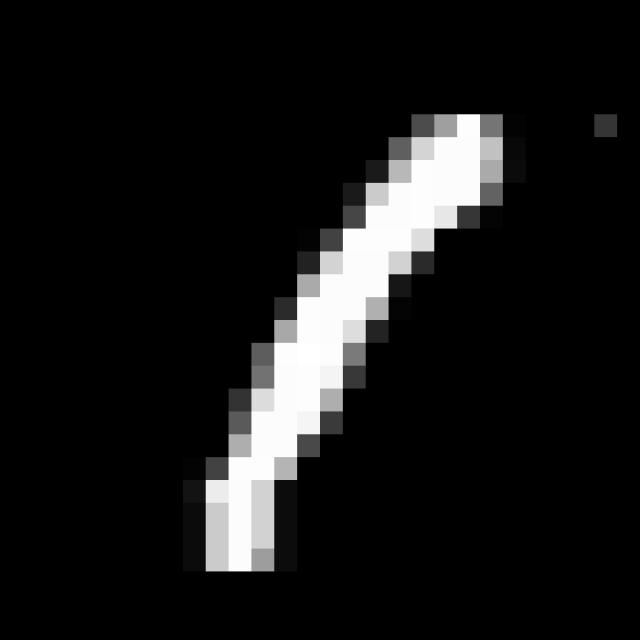one -1-: (183, 101, 517, 583)
